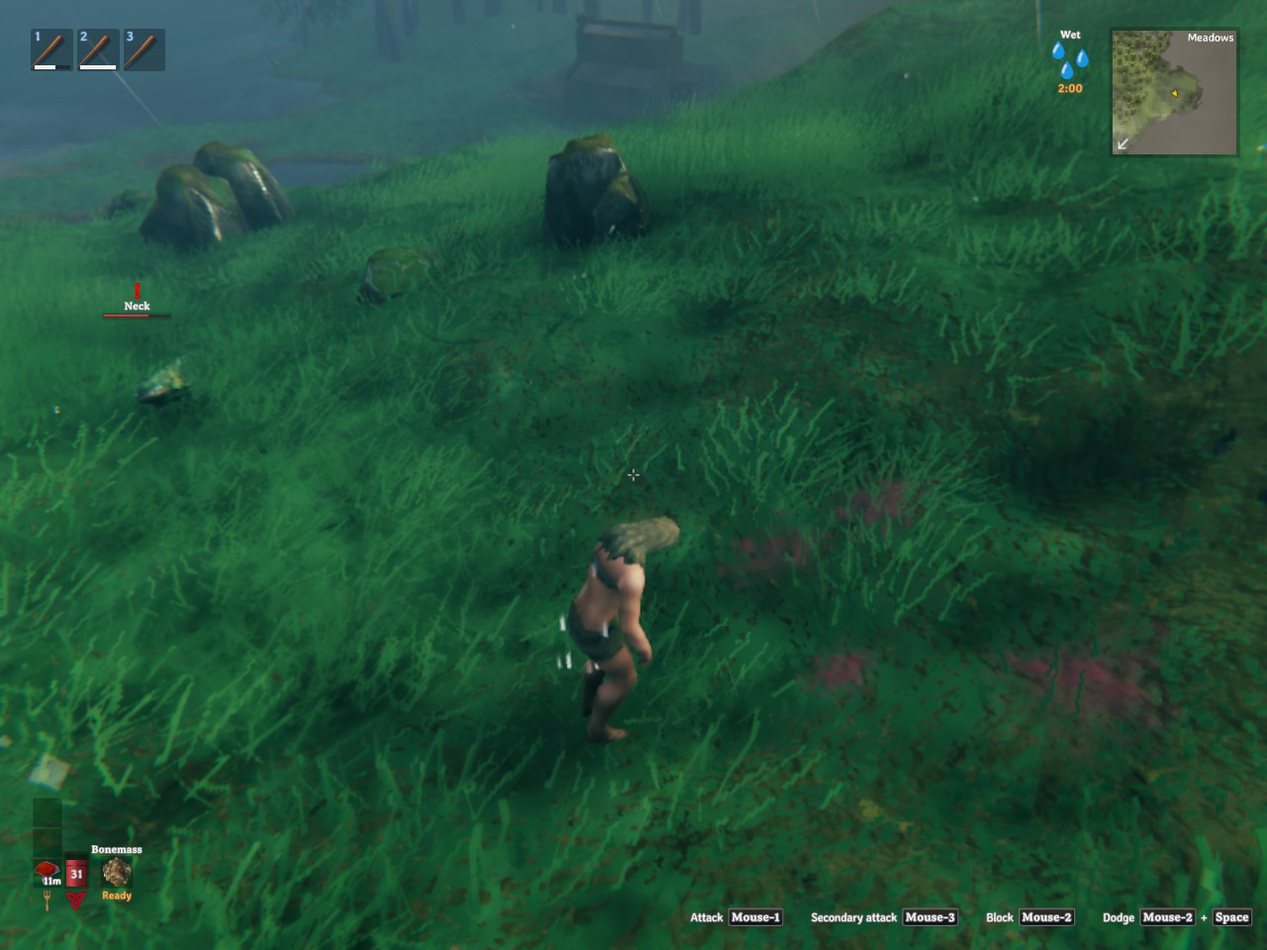Food Indicator: (36, 797, 63, 891)
Health Bar: (63, 820, 90, 891)
Hotbar: (24, 21, 195, 80)
House: (573, 16, 709, 121)
Neck: (137, 360, 186, 405)
Status Indicator: (1024, 22, 1111, 100)
